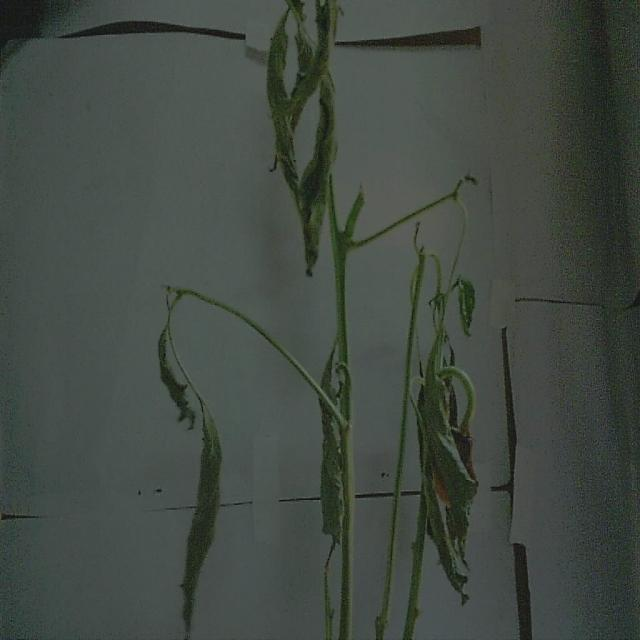Leaf: (422, 337, 473, 577), (264, 13, 310, 225), (182, 397, 221, 627), (317, 355, 344, 554), (309, 66, 334, 275), (156, 325, 196, 438), (285, 25, 317, 159), (318, 4, 333, 81)
